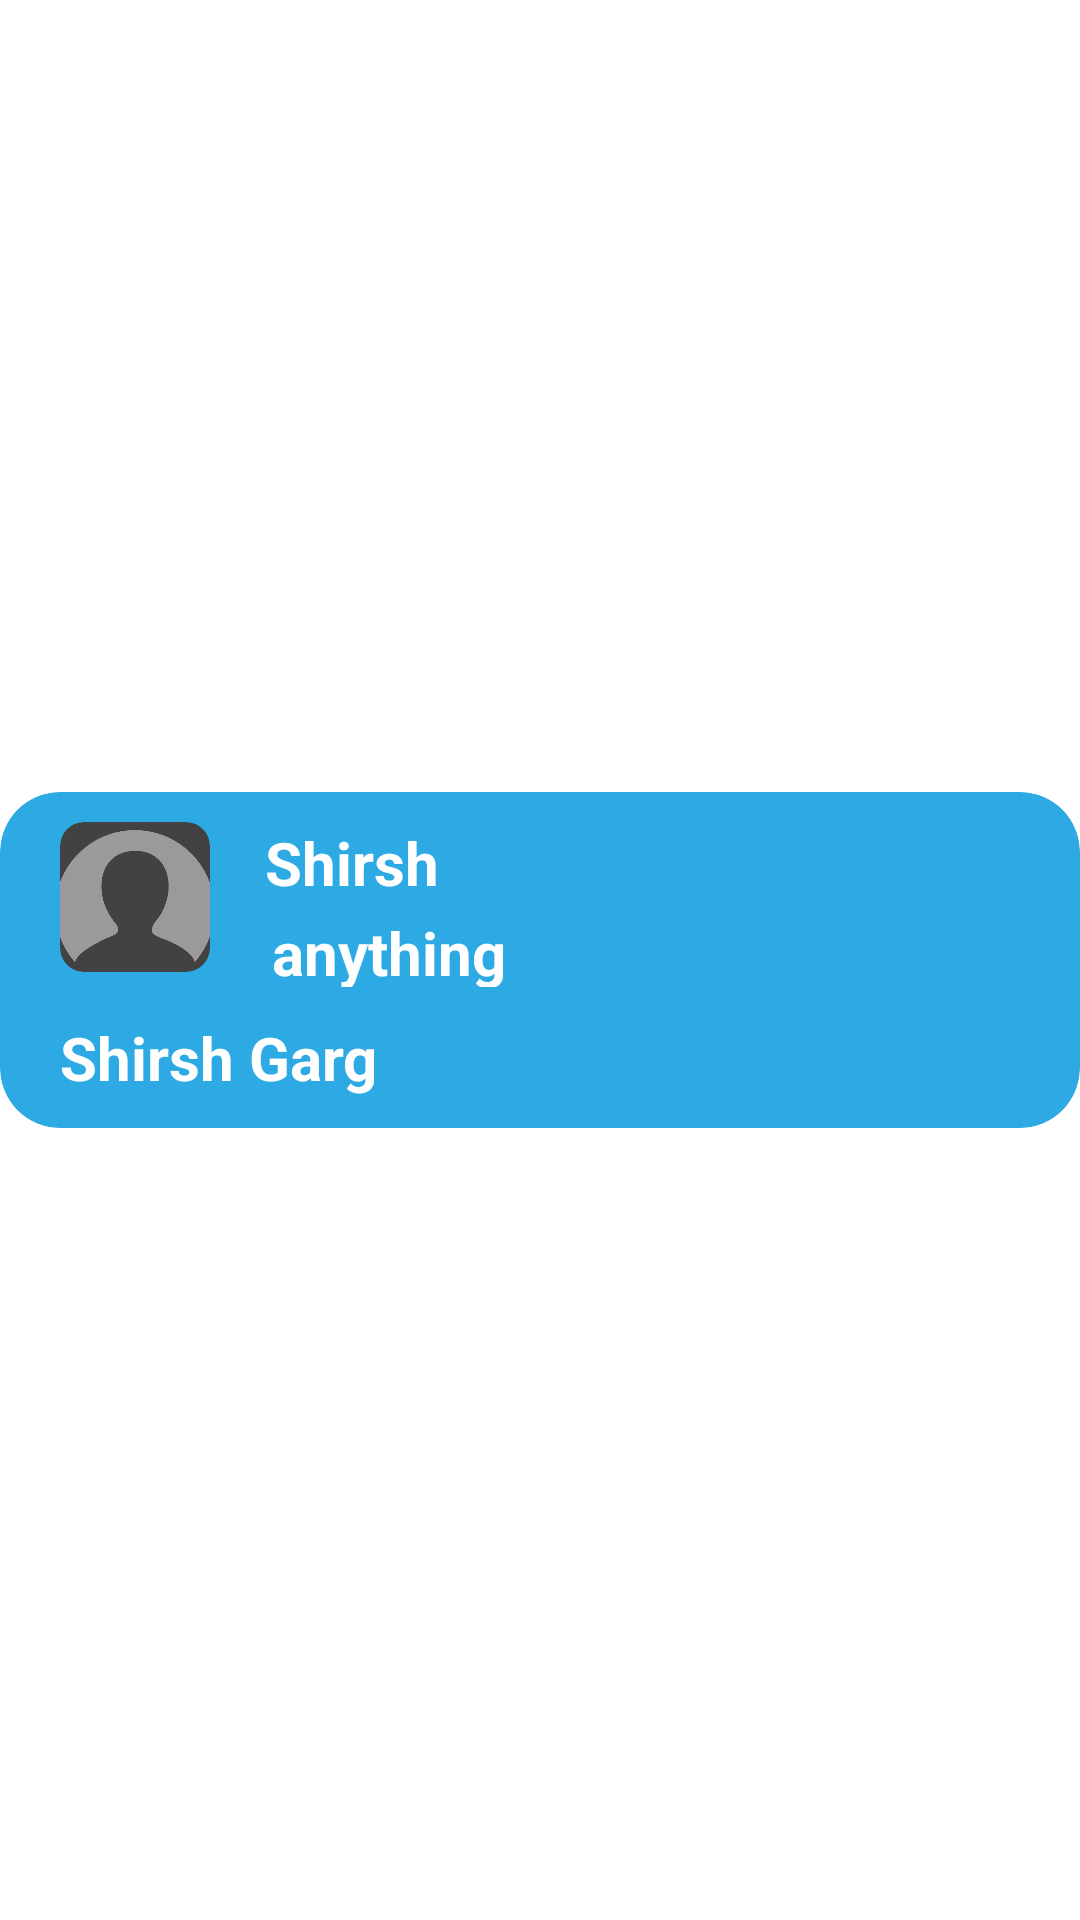

Where icons sit on this 1080px x 1920px app screen, as (x1, y1, x2, y2):
profile: (60, 822, 210, 972)
